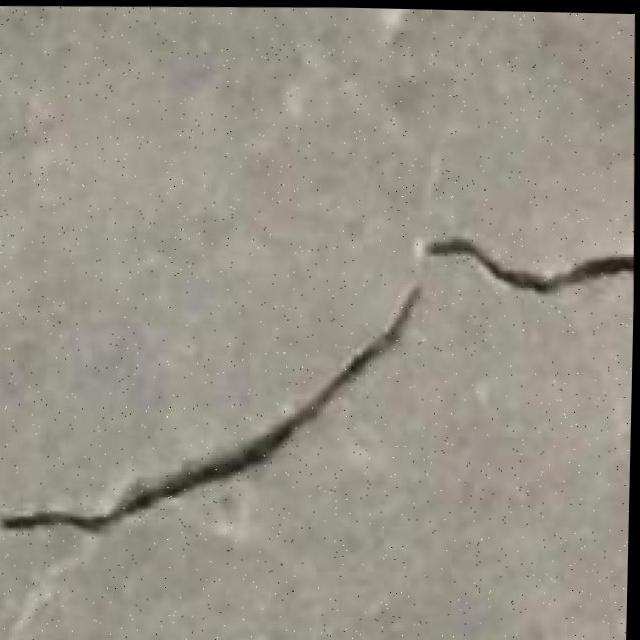Crack: (0, 204, 636, 556)
